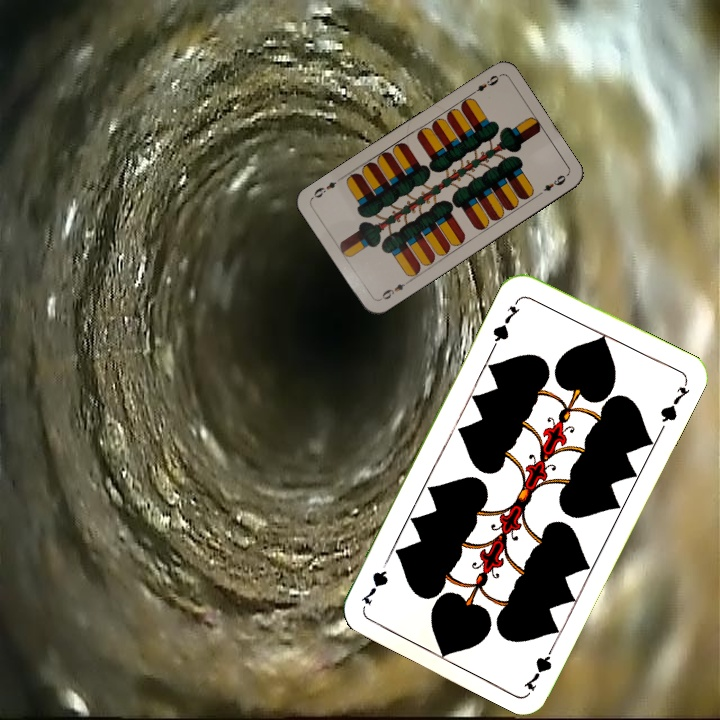E9: (466, 71, 502, 98), (376, 279, 407, 303)
G7: (519, 637, 559, 693), (488, 294, 523, 349)
